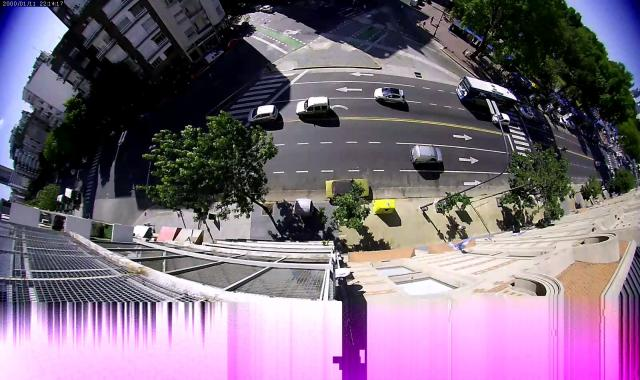bus: (456, 76, 516, 112), (65, 188, 81, 200), (57, 194, 70, 204)
car: (325, 179, 370, 198), (296, 96, 330, 116), (409, 145, 444, 163), (248, 105, 278, 125), (374, 87, 405, 105), (205, 50, 224, 64), (518, 106, 535, 119), (492, 113, 510, 125), (224, 38, 242, 49), (260, 5, 274, 13), (566, 120, 576, 129), (550, 114, 560, 122), (559, 118, 567, 125), (594, 161, 602, 167)
